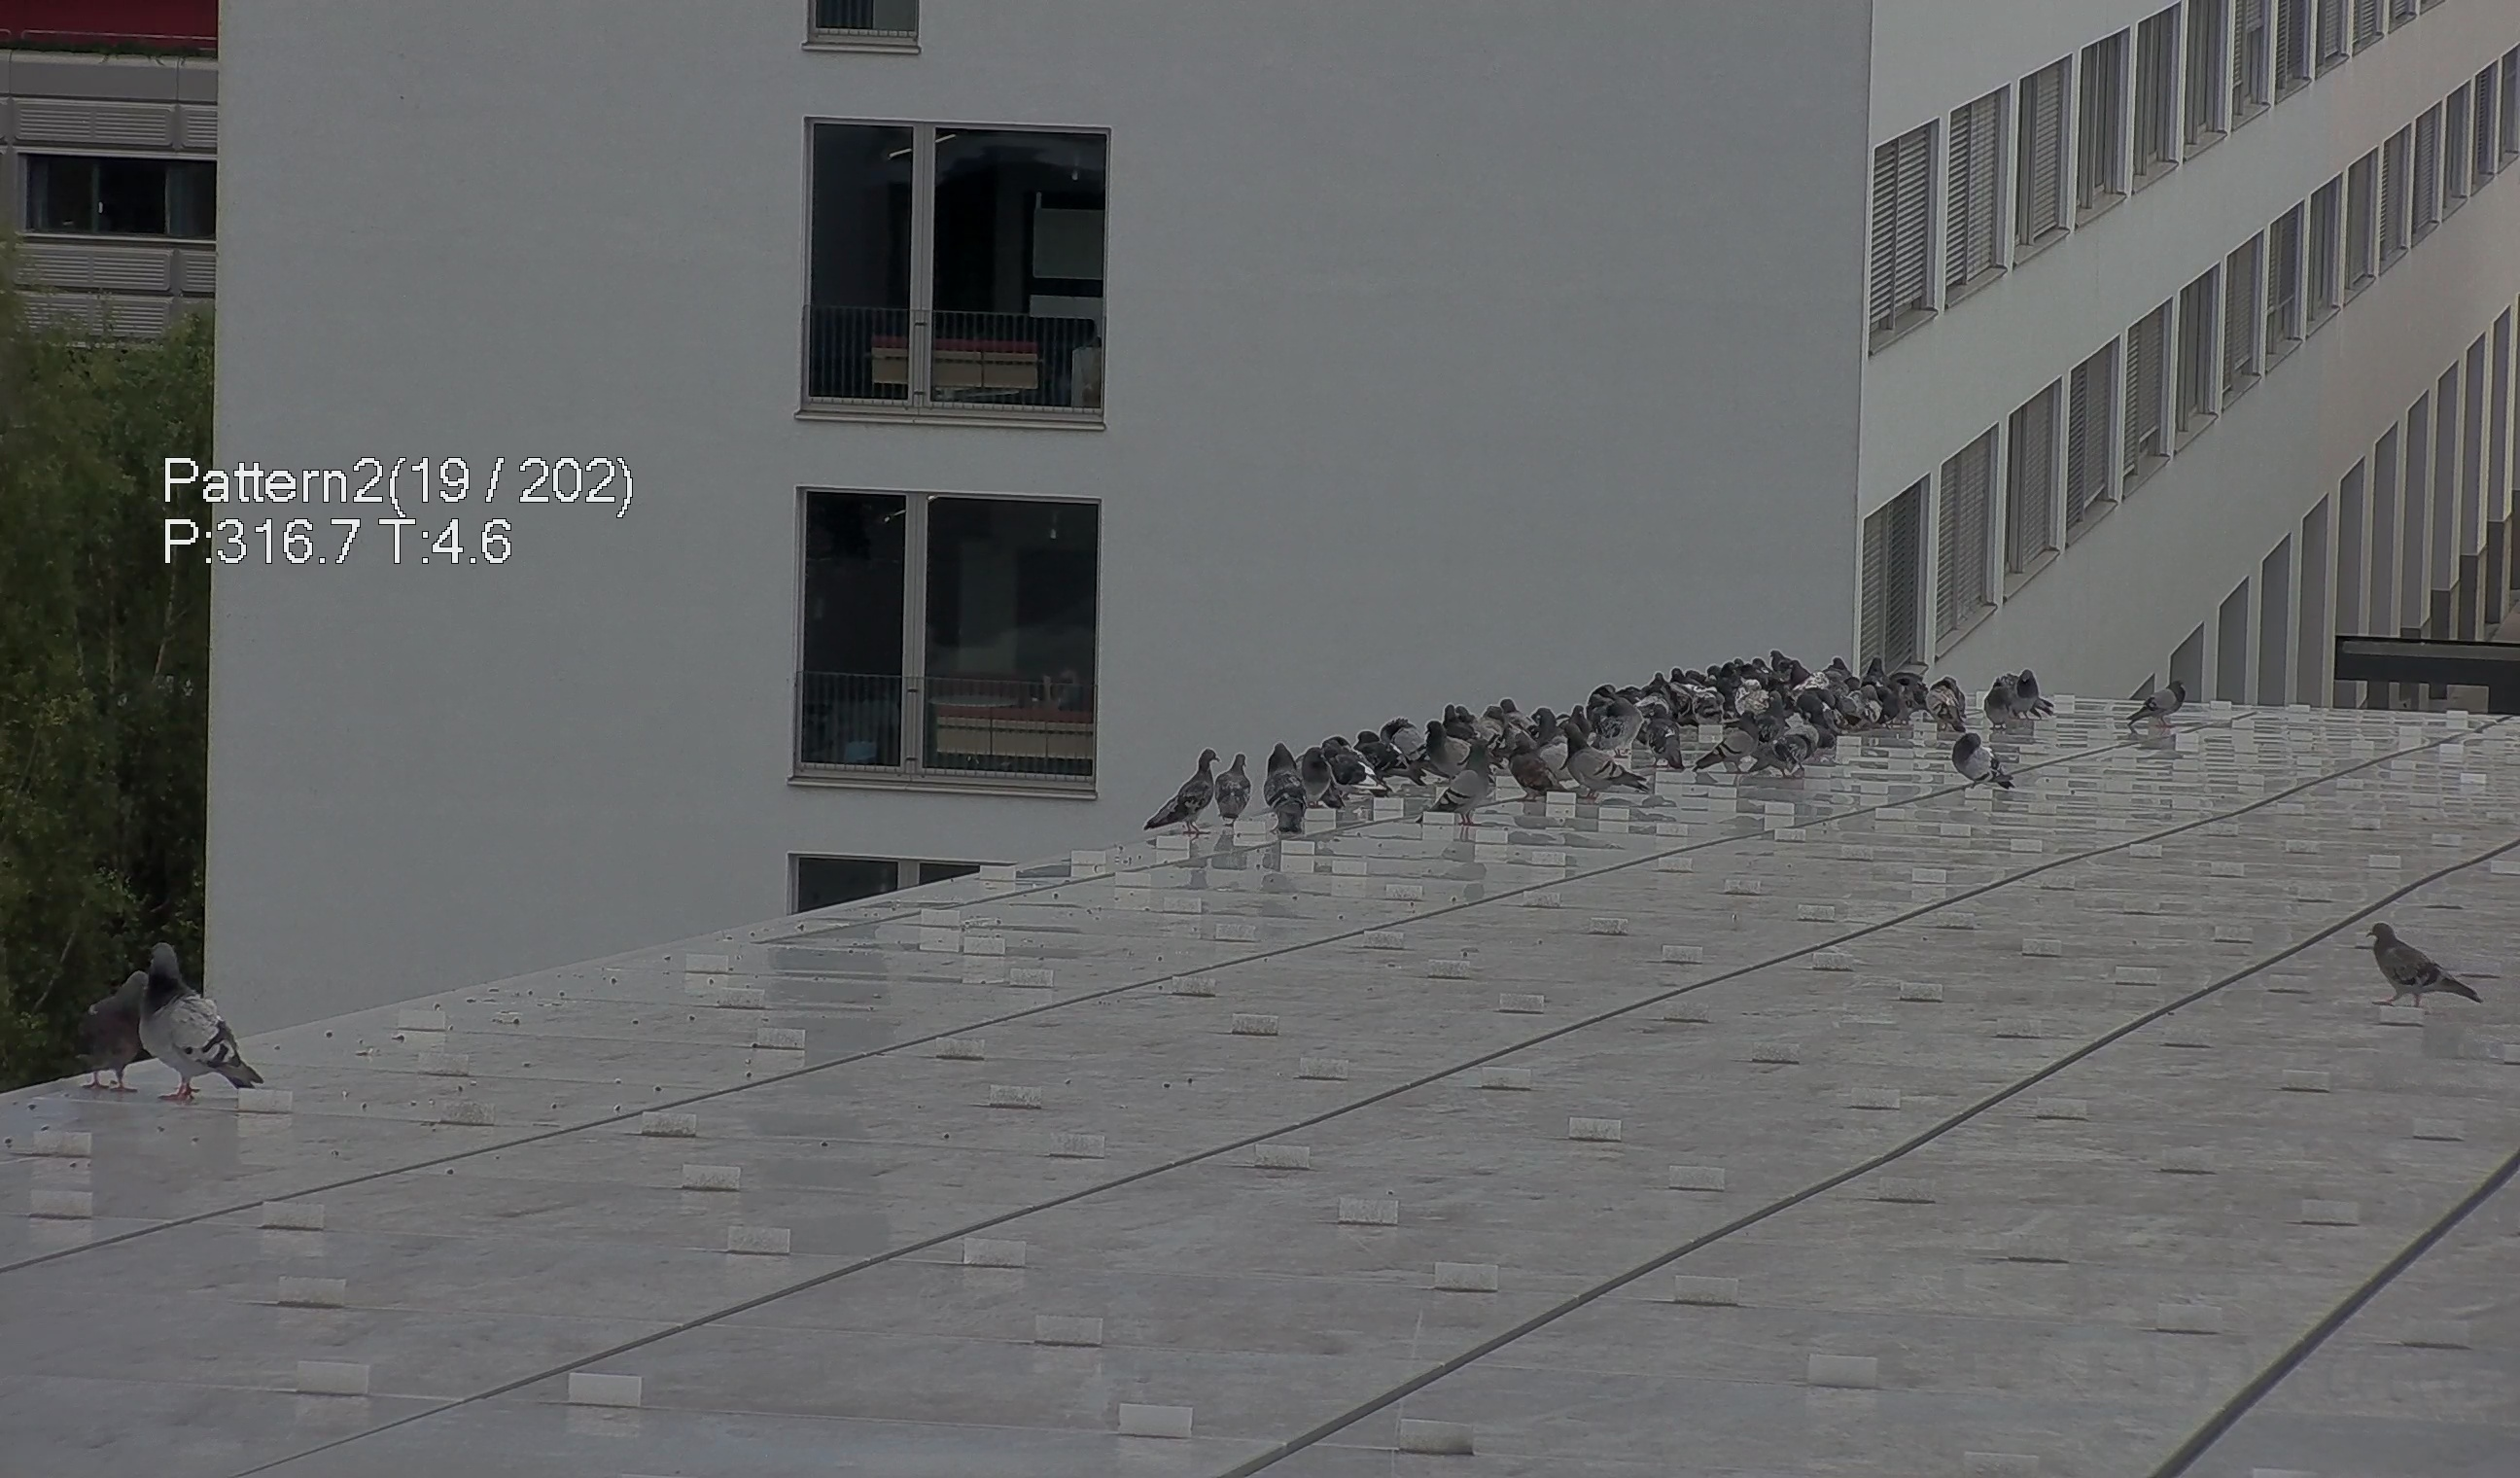Pigeon: (134, 947, 271, 1105), (2369, 915, 2499, 1021), (1140, 732, 1224, 843), (77, 966, 146, 1101), (1428, 735, 1502, 832), (1569, 725, 1657, 801), (1943, 725, 2026, 801), (1686, 709, 1762, 781), (2114, 677, 2191, 735), (1321, 735, 1387, 799), (1266, 762, 1317, 841), (1752, 727, 1822, 779), (1512, 735, 1567, 801), (1213, 750, 1254, 830), (1423, 713, 1470, 776), (1642, 700, 1686, 767), (1600, 691, 1646, 755), (1920, 674, 1971, 728), (2010, 663, 2050, 718), (1985, 676, 2015, 735)
